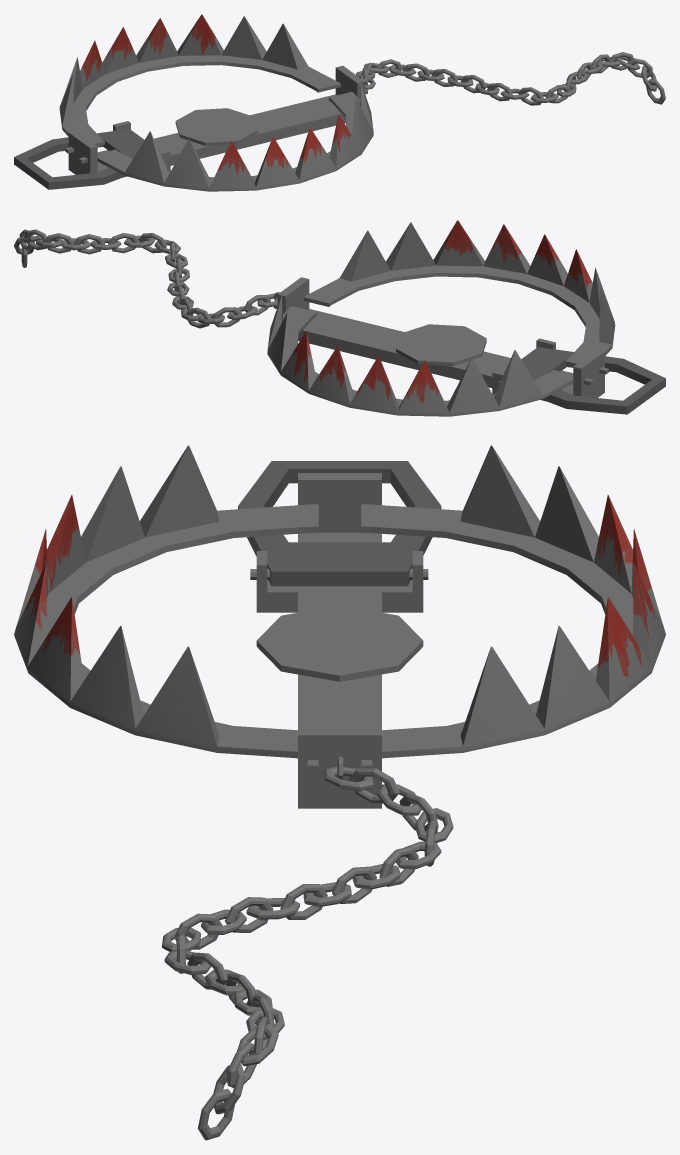
File: fbx_beartrap.fbx
3 views of the same model, one above another, from view 1: azimuth 30°, elevation 25°; view 2: azimuth 150°, elevation 25°; view 3: azimuth 270°, elevation 25° (orthographic). The views are drawn at different scales.
Visible parts, largest first — view 1: sawblade_2, sawblade_1, mid, chain, fix; view 2: sawblade_1, sawblade_2, mid, chain, fix; view 3: sawblade_1, sawblade_2, mid, chain, fix.
Boxes of the visible parts, x1,y1,x2,y2 form: sawblade_2: (59,14,340,153); sawblade_1: (79,80,373,191); mid: (68,65,367,177); chain: (356,52,665,105); fix: (14,129,160,189); sawblade_1: (303,220,615,374); sawblade_2: (267,293,593,416); mid: (273,277,604,401); chain: (14,229,277,328); fix: (503,347,665,414); sawblade_1: (14,445,318,771); sawblade_2: (361,445,665,768); mid: (250,473,428,808); chain: (162,766,453,1140); fix: (238,461,441,586).
Size of the model in its own units: 1.57 by 0.2565 by 0.756.
Materials: 1 (1 with a texture image).
